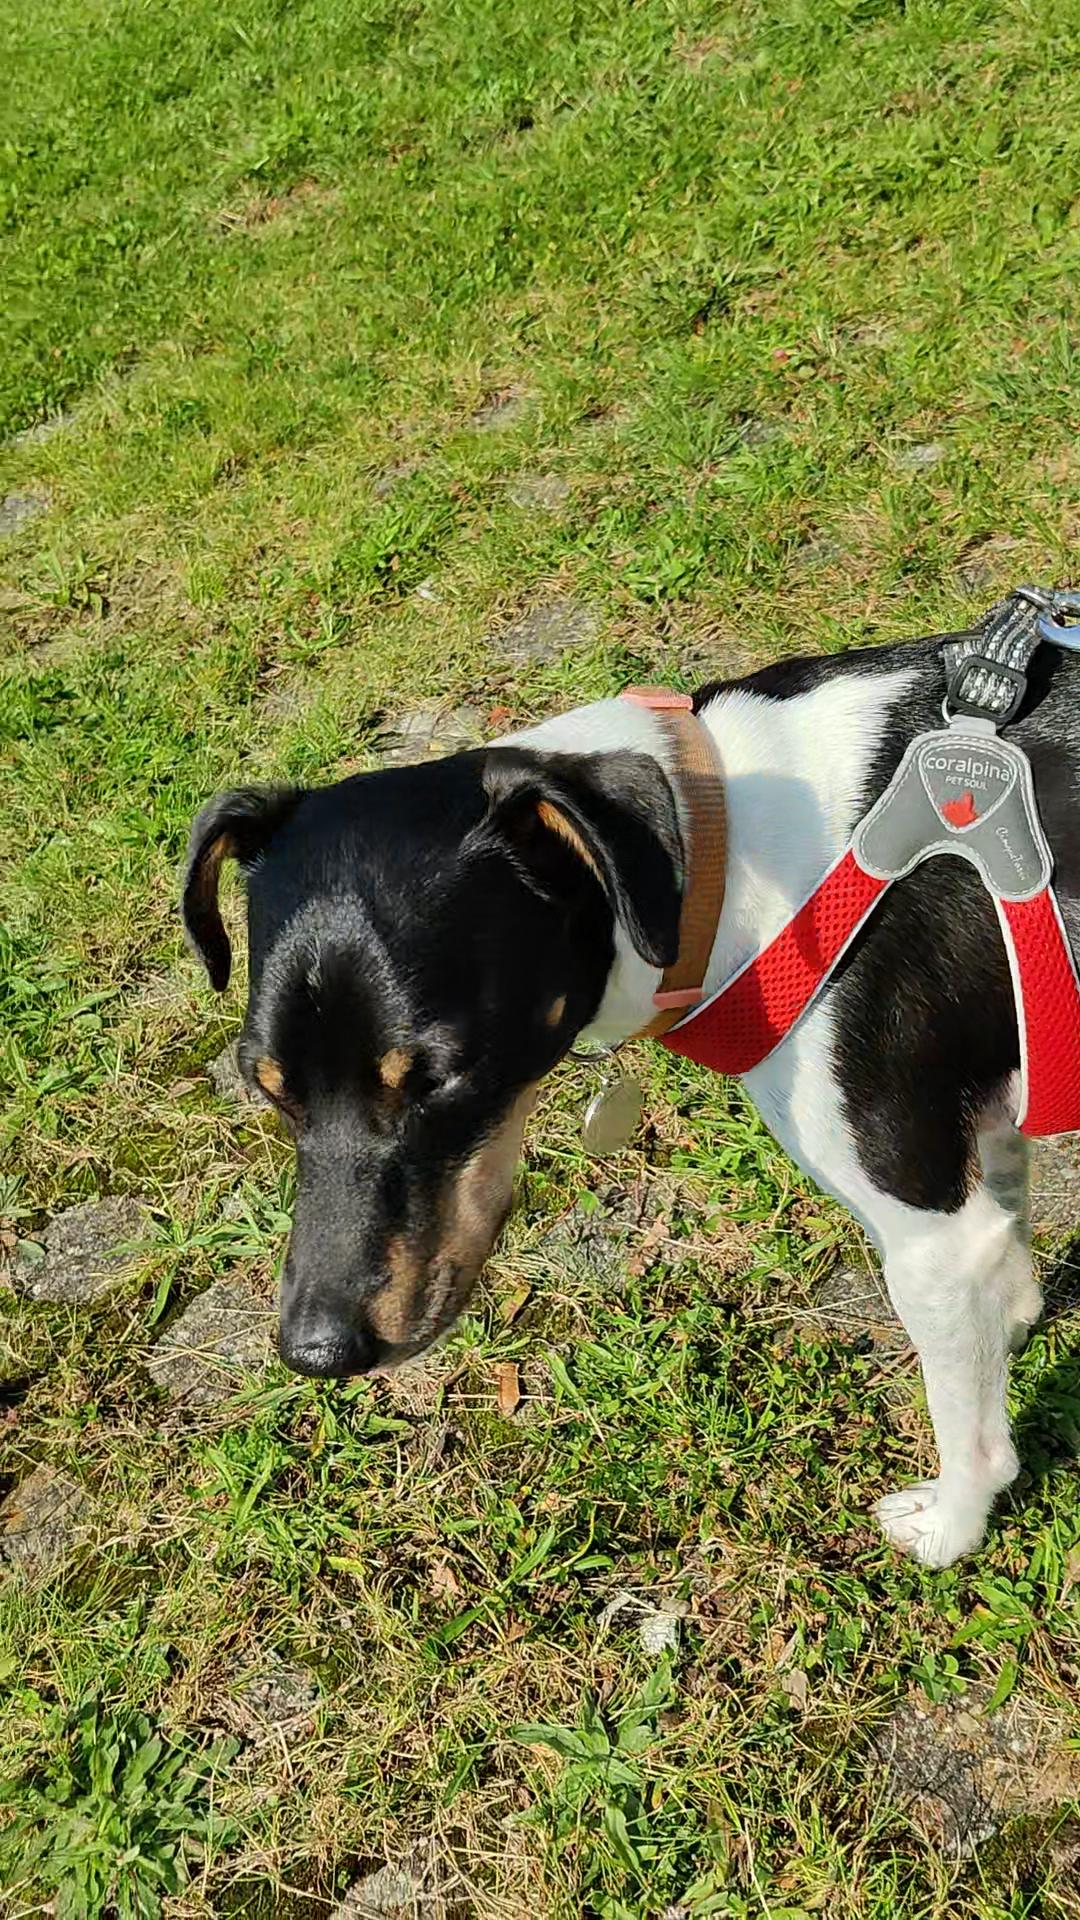Dog: (167, 527, 1079, 1629)
